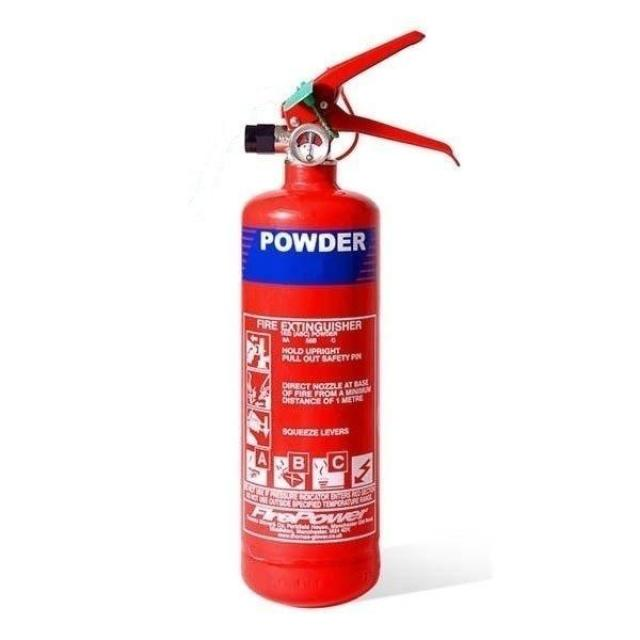fire_extinguisher: (232, 26, 465, 612)
